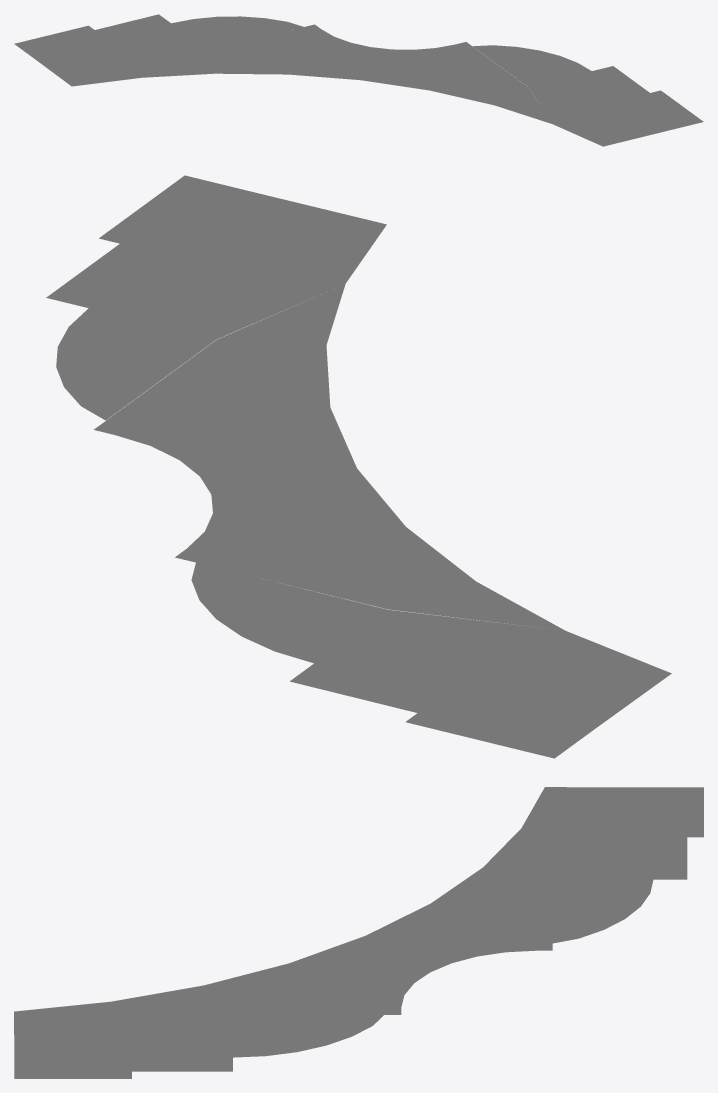
File: tesla_modules_core_ceiling_01.dae
3 renders of one model, top to bottom at view 1: azimuth 30°, elevation 25°; view 2: azimuth 150°, elevation 25°; view 3: azimuth 270°, elevation 25°, orthographic. The views are drawn at different scales.
Visible parts, largest first — view 1: polySurface31; view 2: polySurface31; view 3: polySurface31.
Part boxes in pixels (x1,y1,x2,y2): polySurface31: (14,14,703,146); polySurface31: (46,175,671,758); polySurface31: (14,787,703,1078).
Size of the model in its own units: 10260 by 7.73 by 10255.
